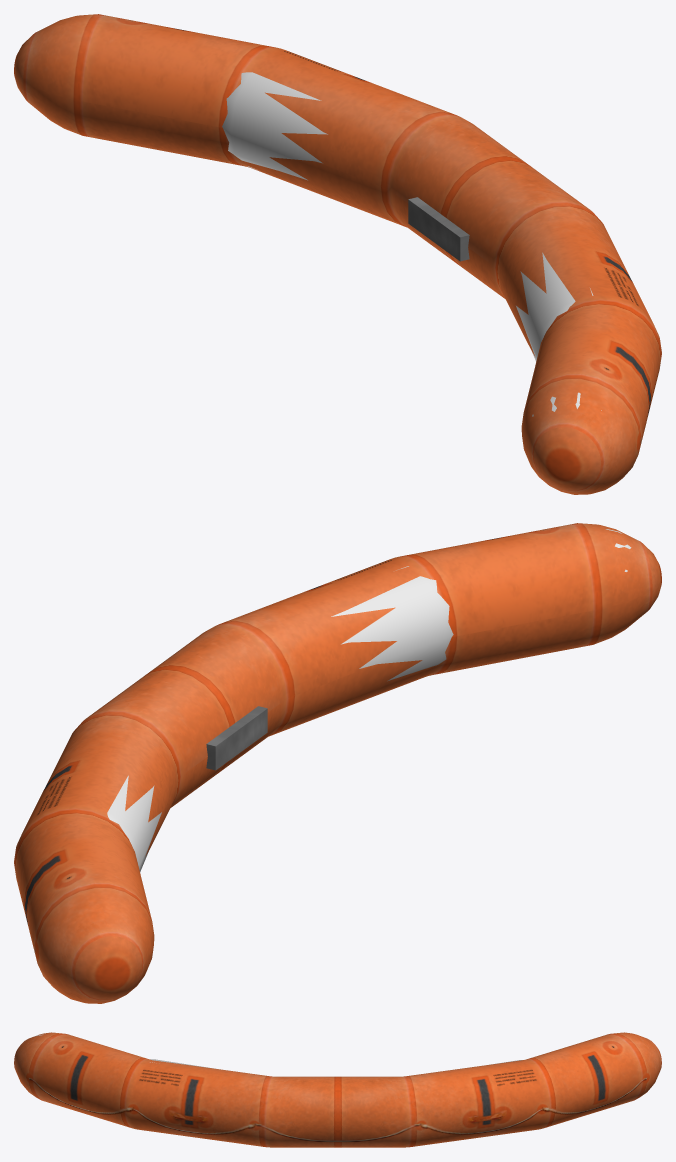
The model's file is Apollo_Float_Ring.FBX.
The picture shows the model from 3 angles, top to bottom: view 1: azimuth 30°, elevation 25°; view 2: azimuth 150°, elevation 25°; view 3: azimuth 270°, elevation 25°; orthographic projection. The views are drawn at different scales.
Visible parts, largest first — view 1: FloatRing, Col_FloatCapsule01, Col_FloatCapsule03, Base; view 2: FloatRing, Col_FloatCapsule03, Col_FloatCapsule01, Base; view 3: FloatRing.
Part boxes in pixels (x1,y1,x2,y2): FloatRing: [14, 14, 661, 494]; Col_FloatCapsule01: [222, 72, 327, 180]; Col_FloatCapsule03: [516, 252, 593, 361]; Base: [408, 197, 469, 261]; FloatRing: [14, 523, 661, 1003]; Col_FloatCapsule03: [331, 566, 453, 681]; Col_FloatCapsule01: [107, 775, 161, 871]; Base: [206, 706, 267, 770]; FloatRing: [14, 1032, 661, 1147].
Bounding box in the file's own units: 55.4 × 21.95 × 200.
1 material, 1 textured.
